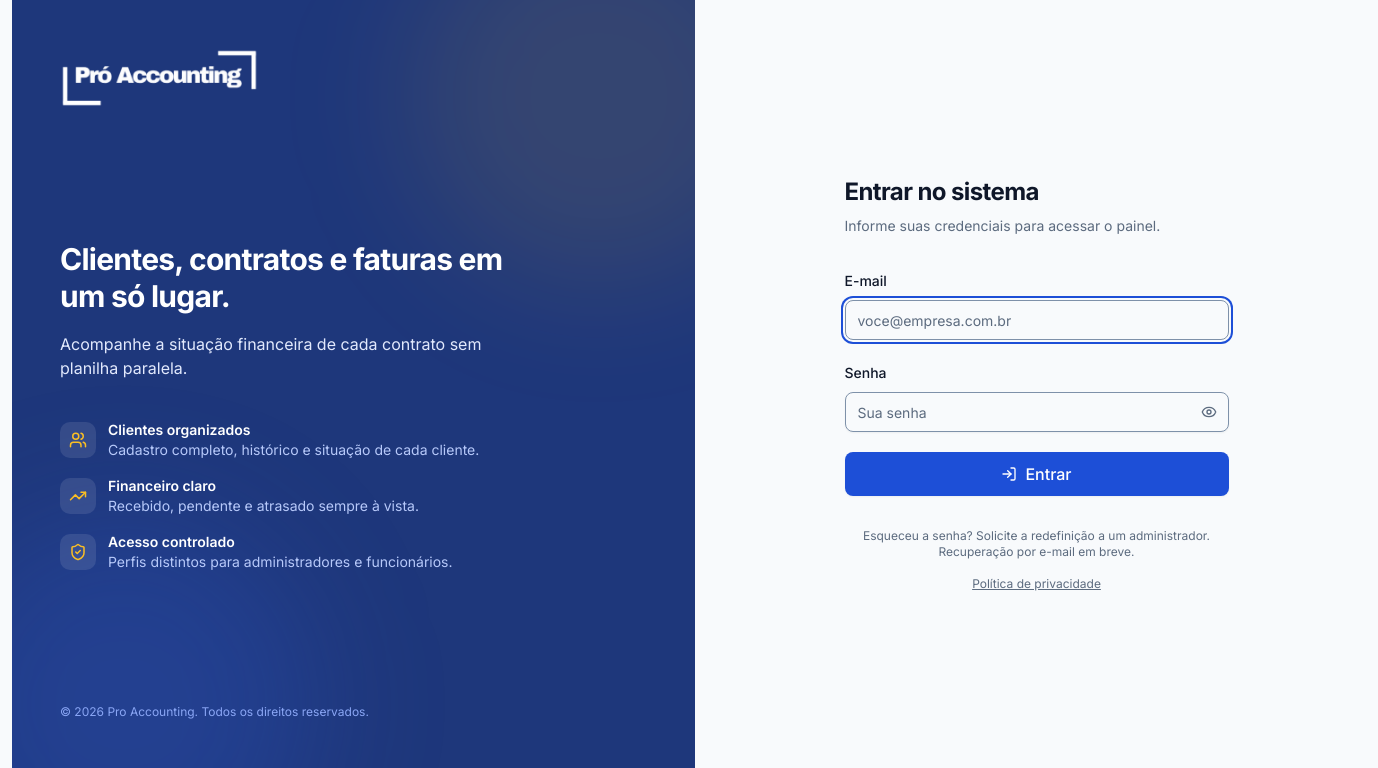
it: tela de login › credenciais erradas: mostra a mensagem da API e limpa a senha
The image size is (1378, 768).
Type "ana@escritorio.com.br" into the field labelled "E-mail" at (1036, 320), box x1=844 y1=300 x2=1228 y2=340
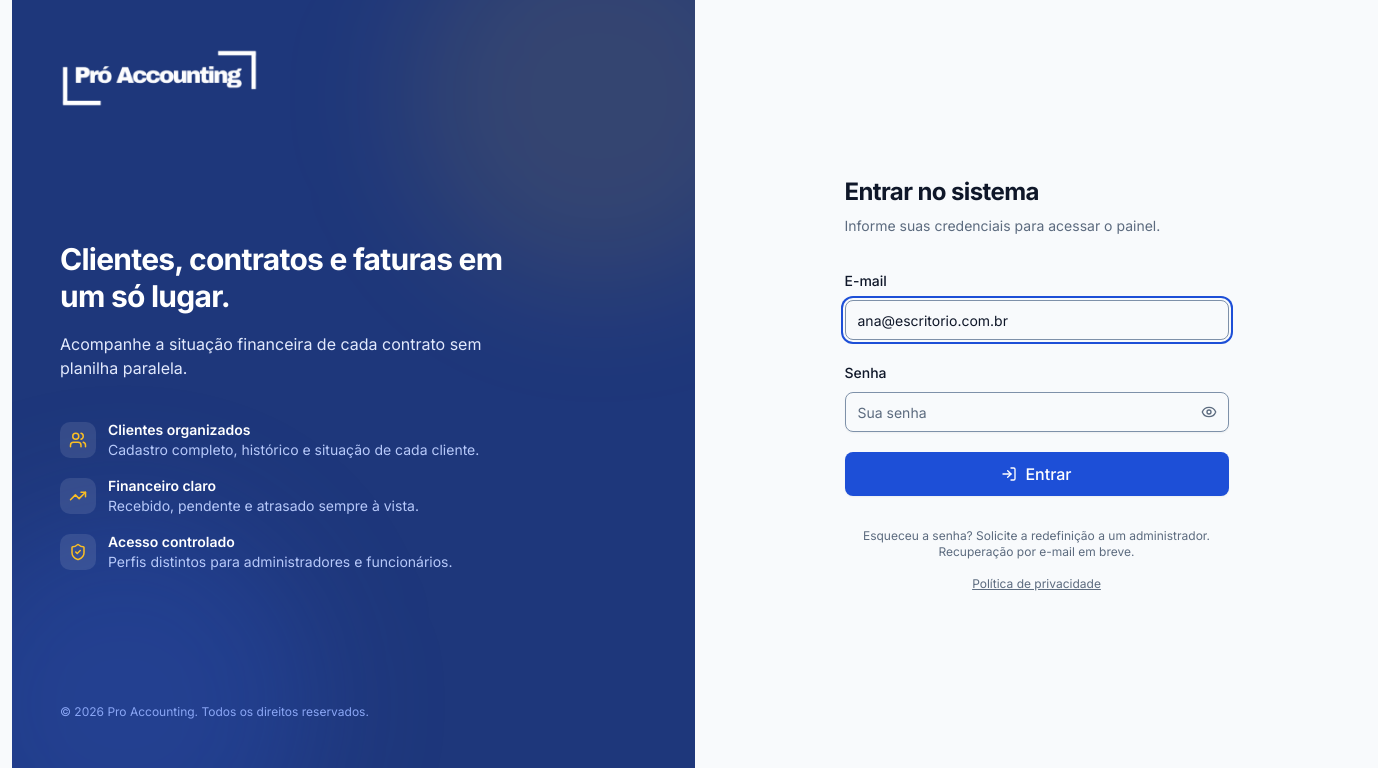
Type "errada" into the password field labelled "Senha" at (1036, 412), box x1=844 y1=392 x2=1228 y2=432
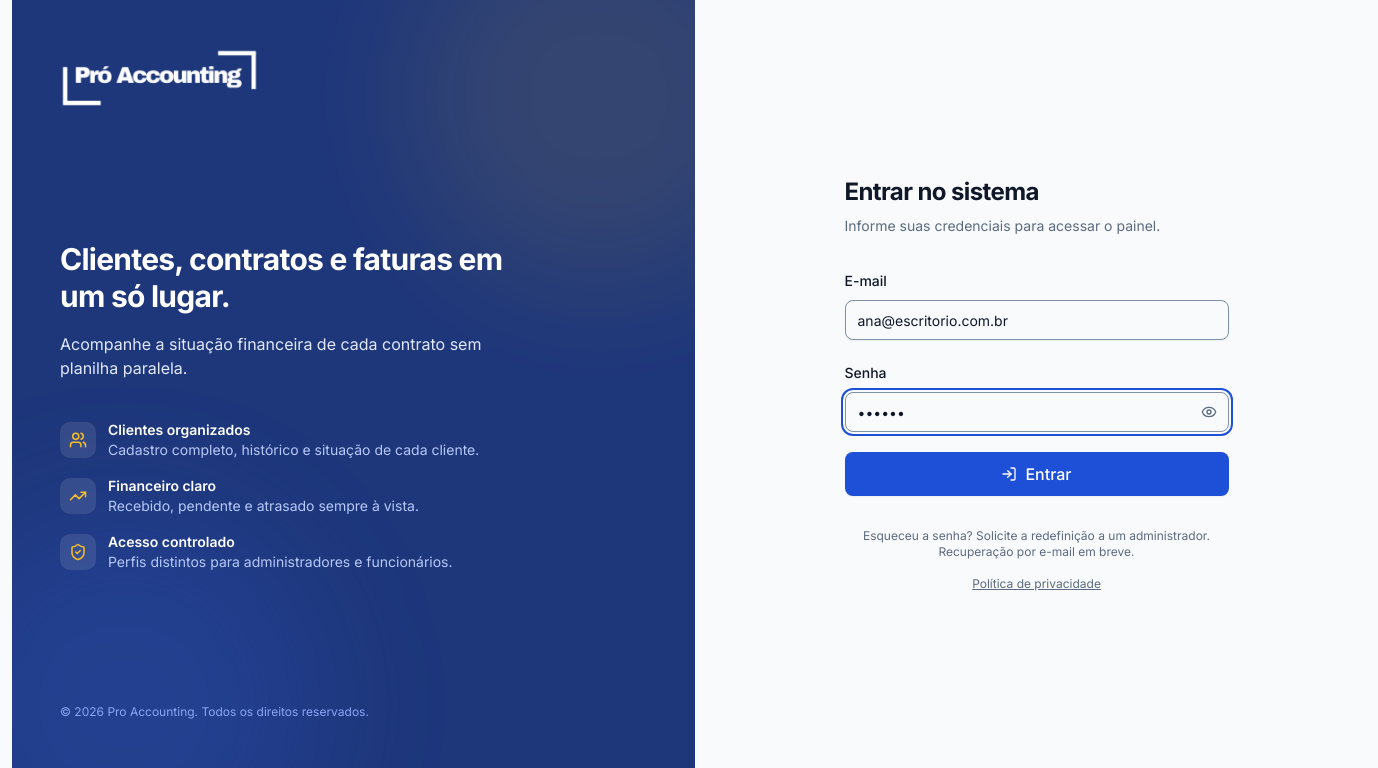
Click the button "Entrar" at (1036, 474), box x1=844 y1=452 x2=1228 y2=496
(page scrolled)
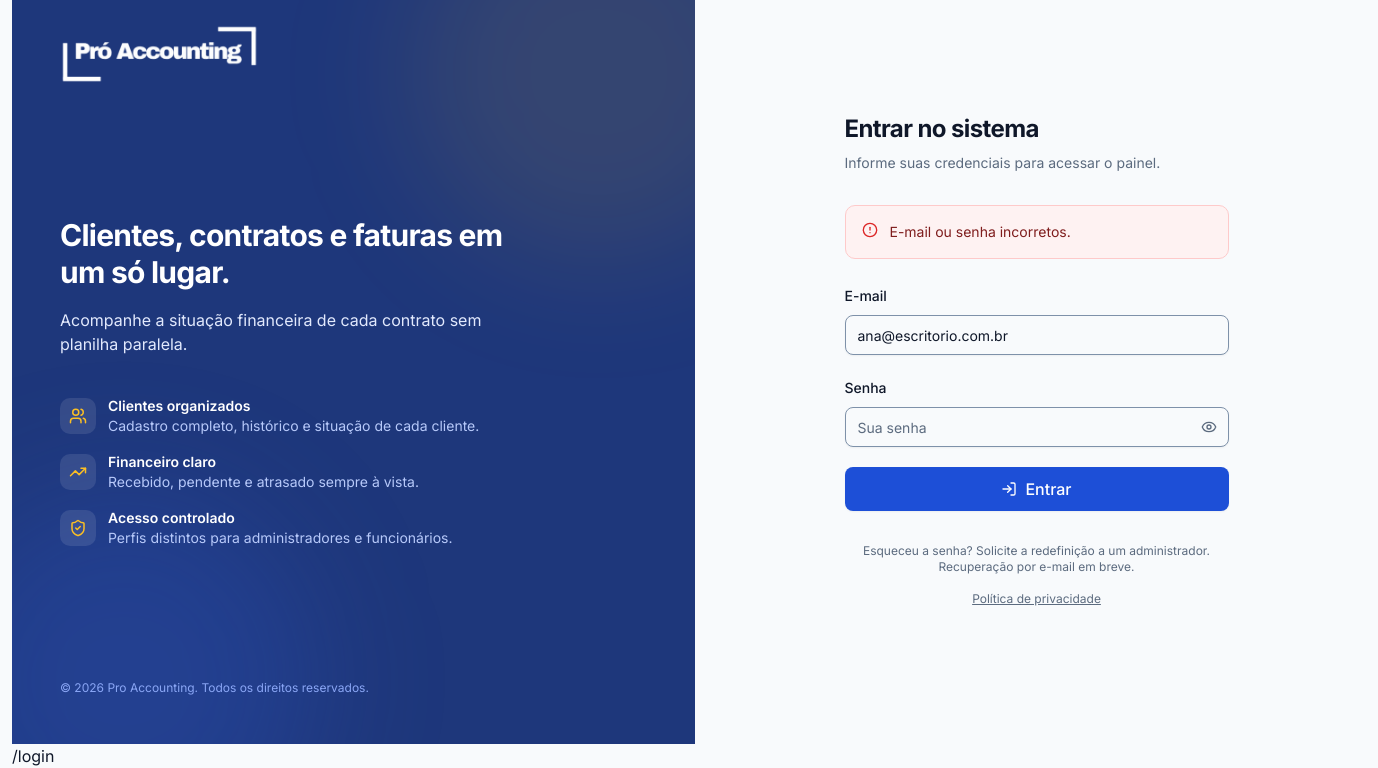
Expected: the text with test id "location" reads "/login", x1=12 y1=746 x2=54 y2=766
Expected: the text "E-mail ou senha incorretos." is shown, x1=890 y1=223 x2=1071 y2=240
Expected: the password field labelled "Senha" is empty, x1=844 y1=407 x2=1228 y2=447
